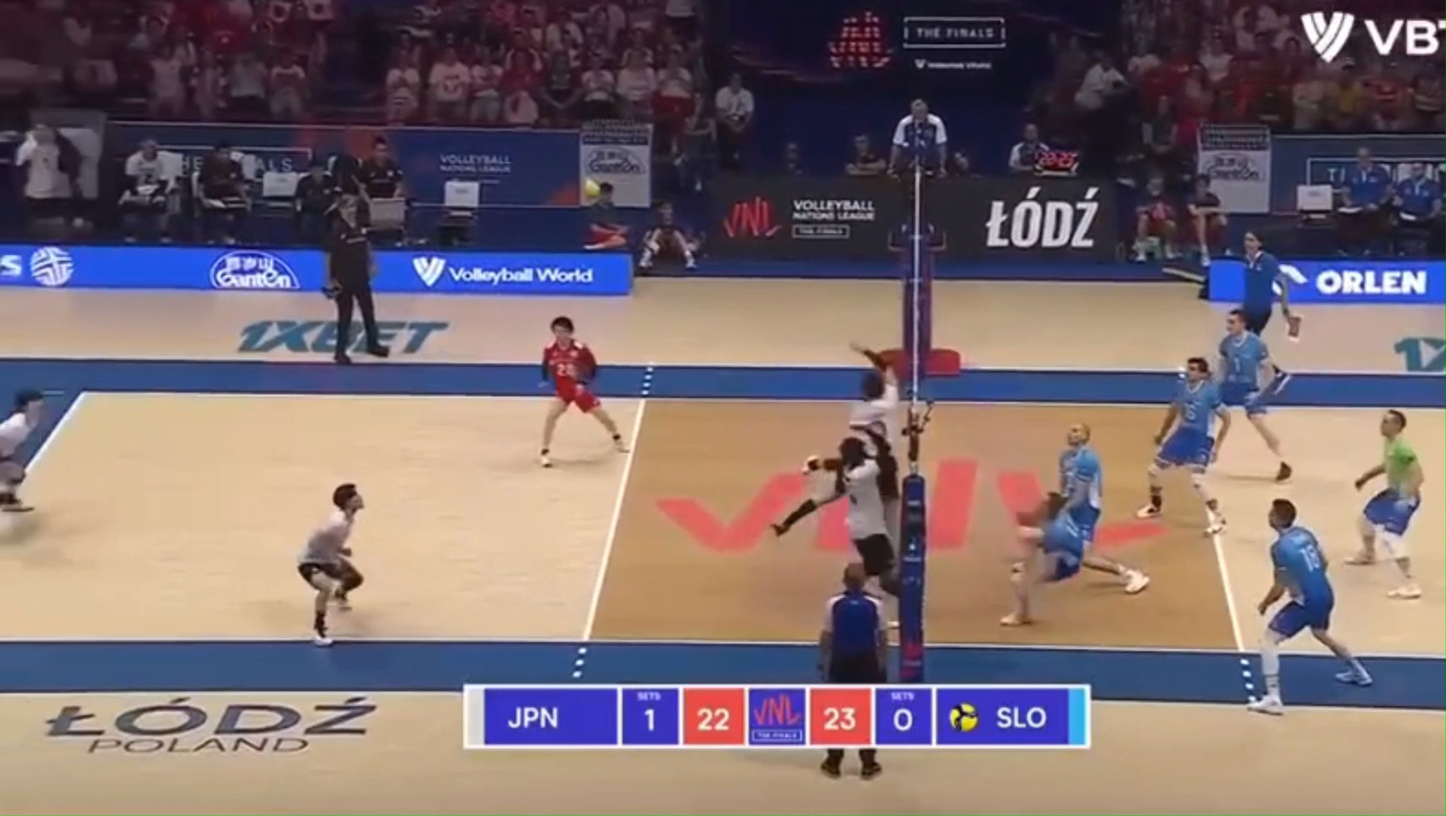ball: (582, 178, 601, 200)
player: (1247, 499, 1371, 715), (1136, 357, 1229, 535), (1058, 423, 1150, 594), (1350, 410, 1423, 599), (1216, 309, 1293, 481), (1003, 493, 1092, 624)
player 1: (539, 316, 626, 466), (297, 483, 364, 645), (838, 436, 898, 595), (848, 345, 899, 505), (0, 390, 43, 512)
referee: (323, 188, 390, 363), (889, 99, 948, 252), (819, 563, 888, 684), (1240, 231, 1301, 338)
